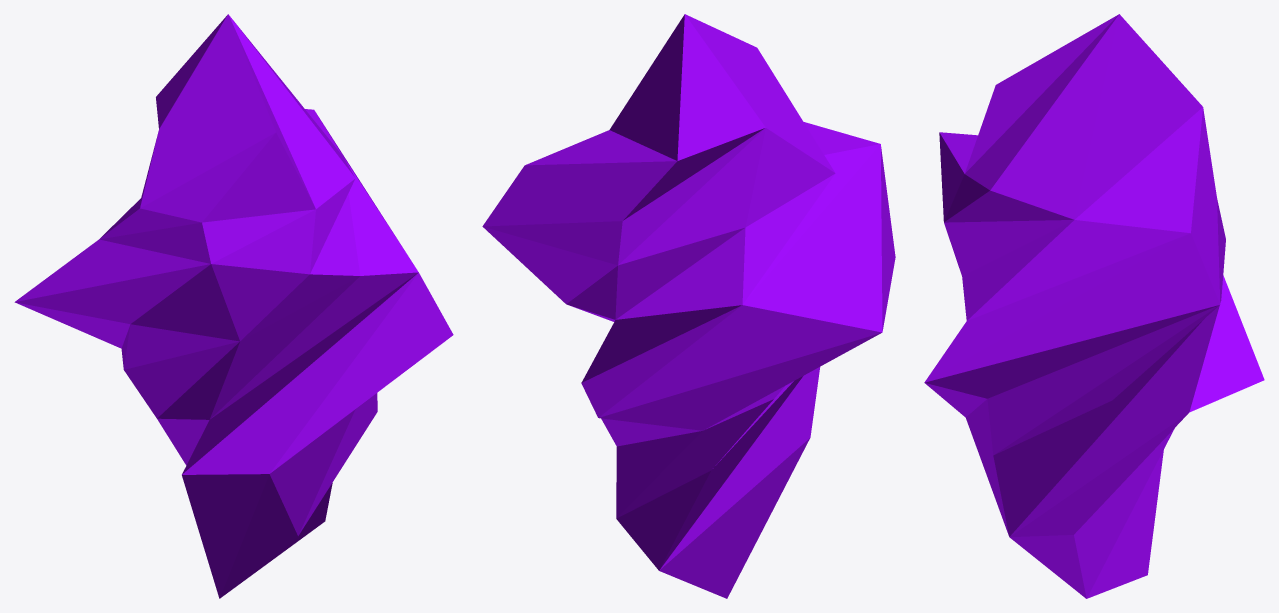
Rendered from Crystal_037.fbx.
3 renders of one model, left to right at view 1: azimuth 30°, elevation 25°; view 2: azimuth 150°, elevation 25°; view 3: azimuth 270°, elevation 25°, orthographic. The views are drawn at different scales.
Visible parts, largest first — view 1: Crystal.037; view 2: Crystal.037; view 3: Crystal.037.
Boxes of the visible parts, bbox=[...] form: Crystal.037: bbox=[14, 14, 453, 598]; Crystal.037: bbox=[482, 14, 895, 598]; Crystal.037: bbox=[924, 14, 1264, 598].
Bounding box in the file's own units: 315 × 490 × 253.
